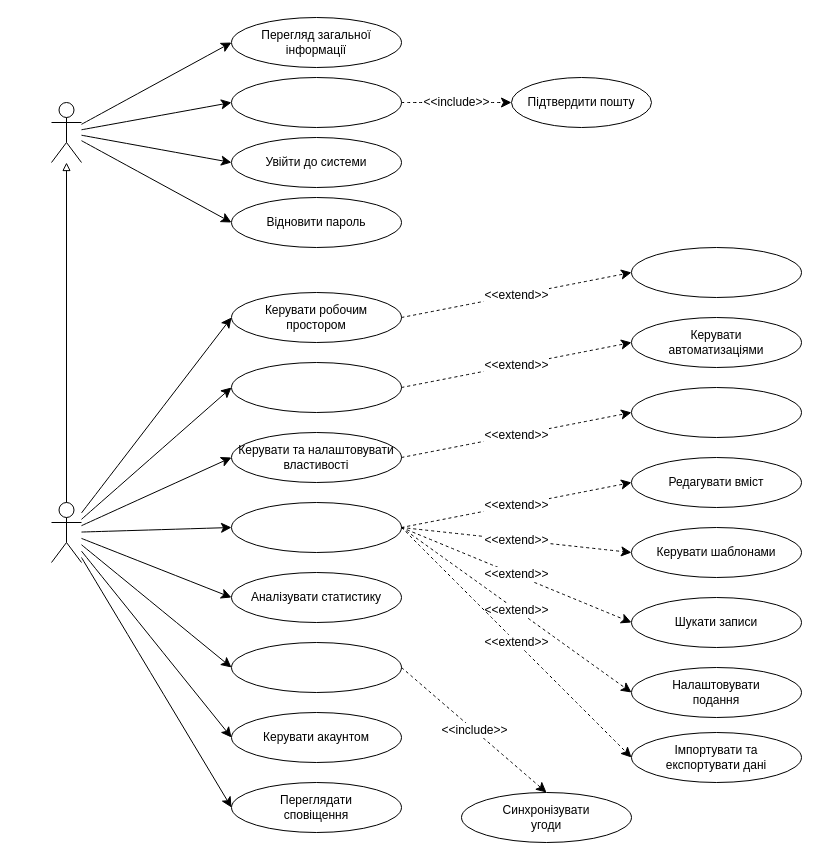
This 819x860 diagram has some shape labels left out. The centre of each missing label's shape, as x and y in pixels:
"Авторизований користувач" goes at pixel 66 532.
"Зареєструватися" goes at pixel 316 102.
"Керувати базами даних" goes at pixel 316 387.
"Керувати записами" goes at pixel 316 527.
"Керувати підключеннями" goes at pixel 316 667.
"Керувати секціями" goes at pixel 716 272.
"Неавторизований користувач" goes at pixel 66 132.
"Обрати формулу властивості" goes at pixel 716 412.
